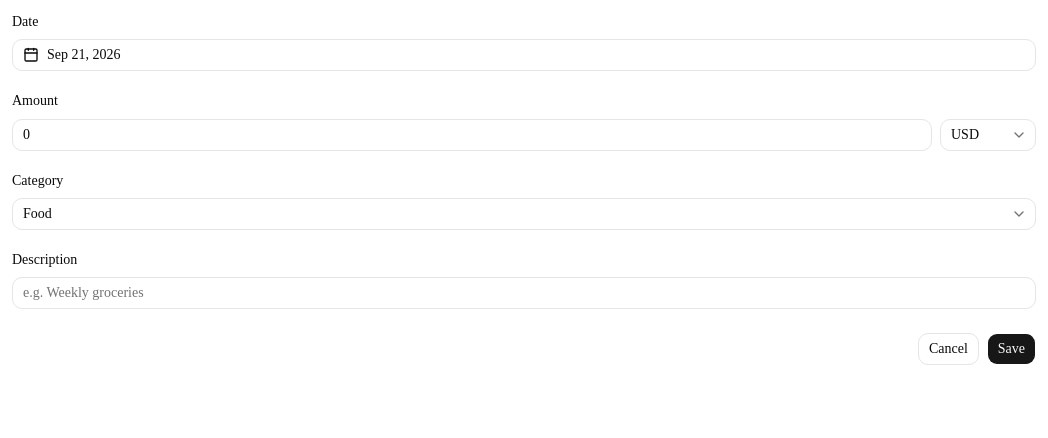
ExpenseForm › shows validation errors and does not submit when the data is invalid
The width and height of the screenshot is (1048, 438).
What coordinates should you click on to do the following:
click the button "Save"
I would click on:
 (1011, 349)
Its box is [987,333,1036,365].
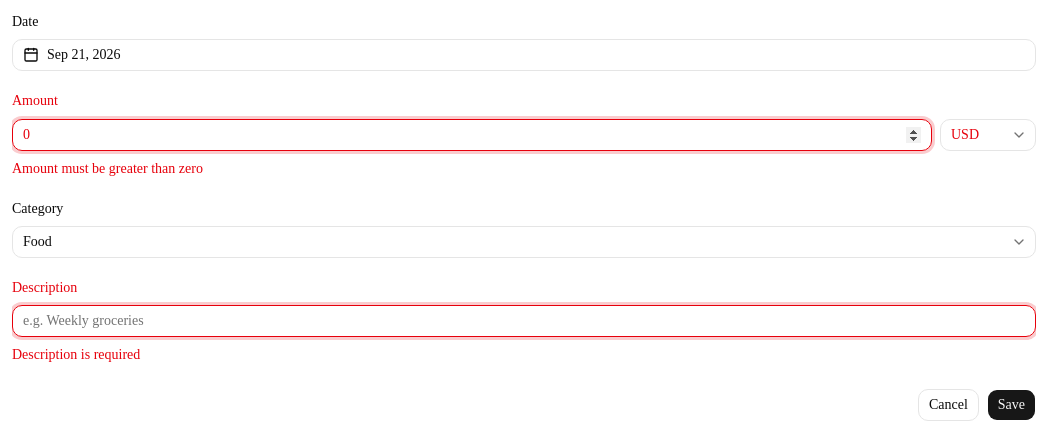
Check: the text "Amount must be greater than zero" is shown, box [12,160,203,176]
Check: the text "Description is required" is shown, box [12,347,140,362]
